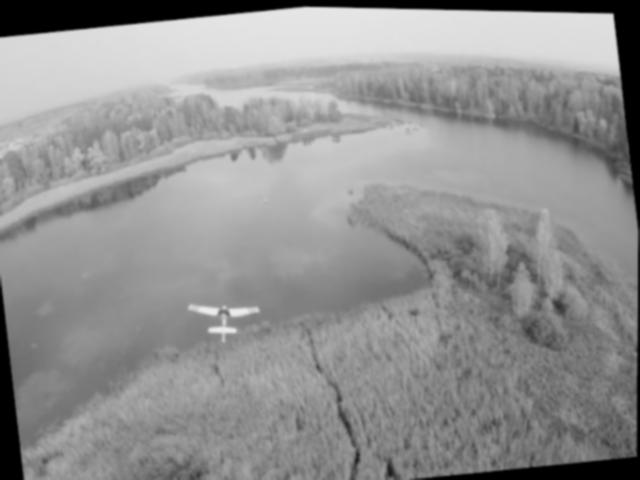hedef: (186, 290, 268, 344)
